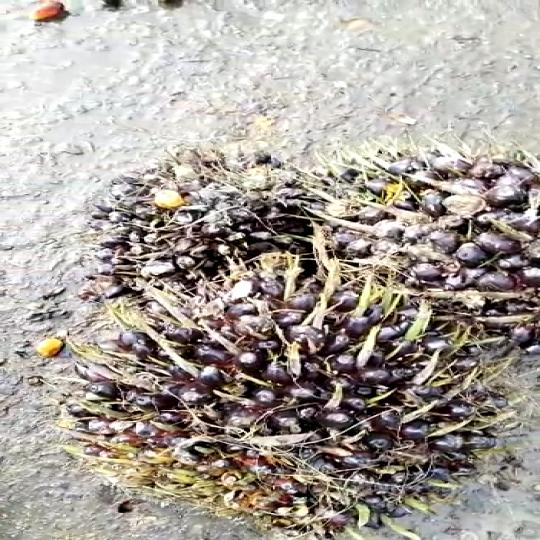mentah: (59, 152, 540, 535)
